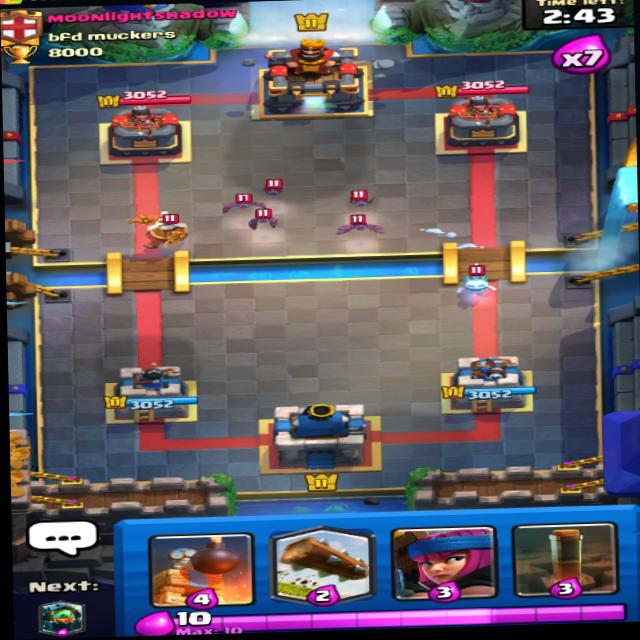bats: (337, 211, 384, 245), (259, 169, 301, 201), (247, 202, 288, 231), (343, 186, 384, 210), (221, 191, 263, 214)
ice-spirit: (452, 261, 506, 297)
monk: (123, 196, 204, 245)
